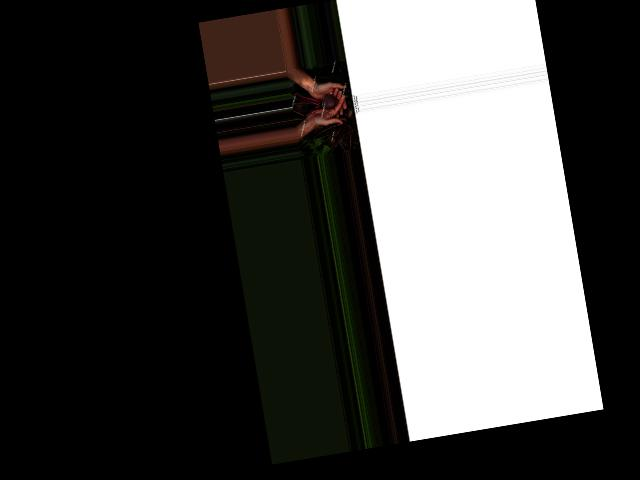beet: (291, 84, 340, 119)
